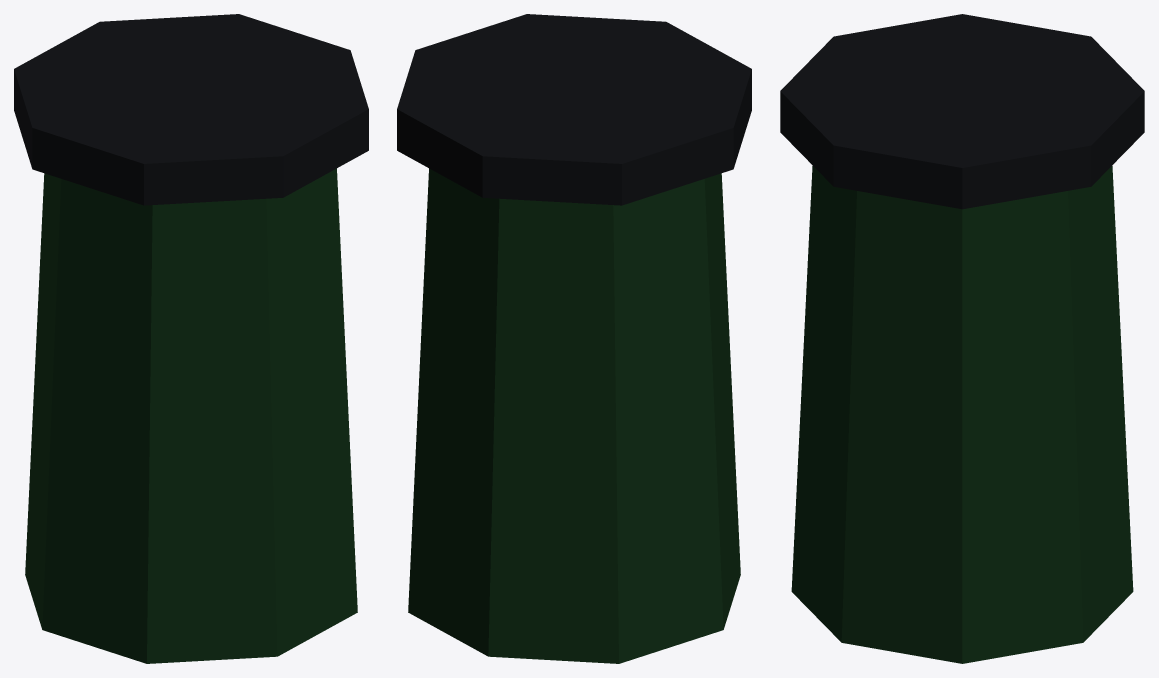
The model's file is trash_bin.obj.
3 renders of one model, left to right at view 1: azimuth 30°, elevation 25°; view 2: azimuth 150°, elevation 25°; view 3: azimuth 270°, elevation 25°, orthographic.
Visible parts, largest first — view 1: trash_bin; view 2: trash_bin; view 3: trash_bin.
Part boxes in pixels (left/top/right/bottom): trash_bin: left=14, top=14, right=368, bottom=663; trash_bin: left=397, top=14, right=751, bottom=663; trash_bin: left=780, top=14, right=1144, bottom=663.
Bounding box in the file's own units: 0.64 × 0.97 × 0.64.
